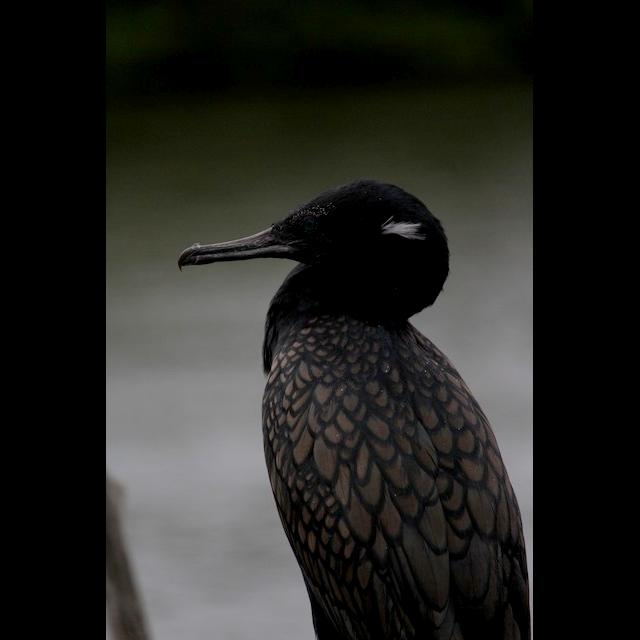cormorant: (178, 171, 535, 640)
